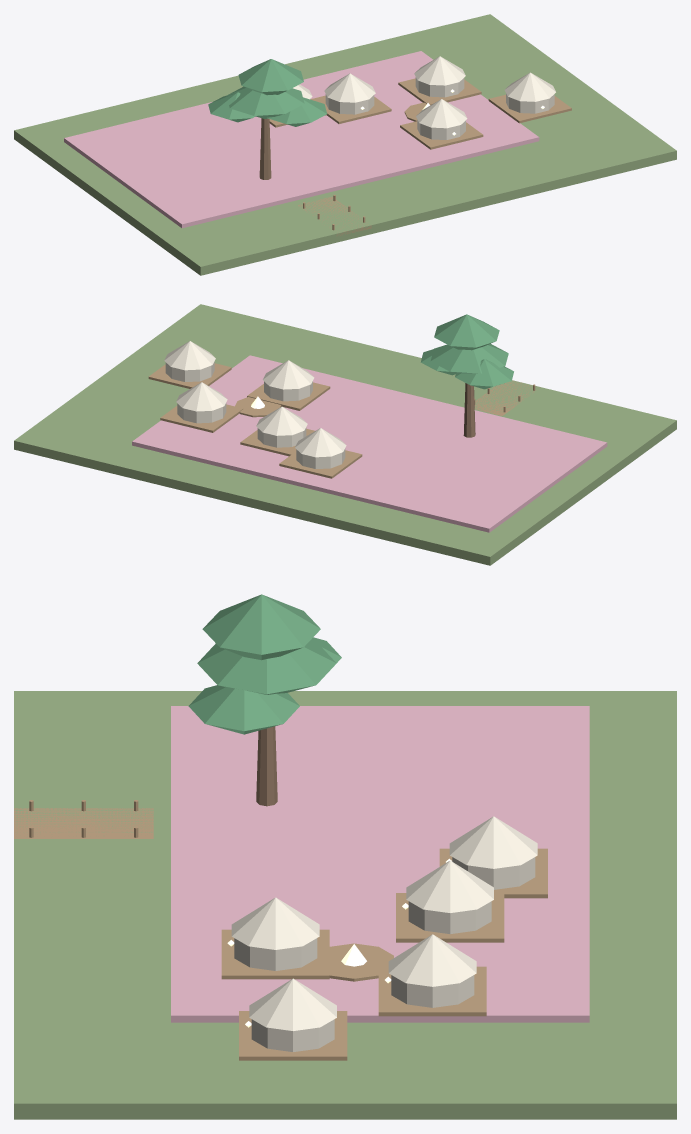
Rendered from lm_51_suoi_vang_dankia_lonely_pine_and_glamping_camp_kit.glb.
3 renders of one model, top to bottom at view 1: azimuth 30°, elevation 25°; view 2: azimuth 150°, elevation 25°; view 3: azimuth 270°, elevation 25°, orthographic. The views are drawn at different scales.
Visible parts, largest first — view 1: lm_51_suoi_vang_dankia_lonely_pine_and_glamping_camp_kit; view 2: lm_51_suoi_vang_dankia_lonely_pine_and_glamping_camp_kit; view 3: lm_51_suoi_vang_dankia_lonely_pine_and_glamping_camp_kit.
Part boxes in pixels (left/top/right/bottom): lm_51_suoi_vang_dankia_lonely_pine_and_glamping_camp_kit: left=14, top=14, right=676, bottom=275; lm_51_suoi_vang_dankia_lonely_pine_and_glamping_camp_kit: left=14, top=304, right=676, bottom=565; lm_51_suoi_vang_dankia_lonely_pine_and_glamping_camp_kit: left=14, top=594, right=676, bottom=1119.
Bounding box in the file's own units: 56 × 14.8 × 38.
